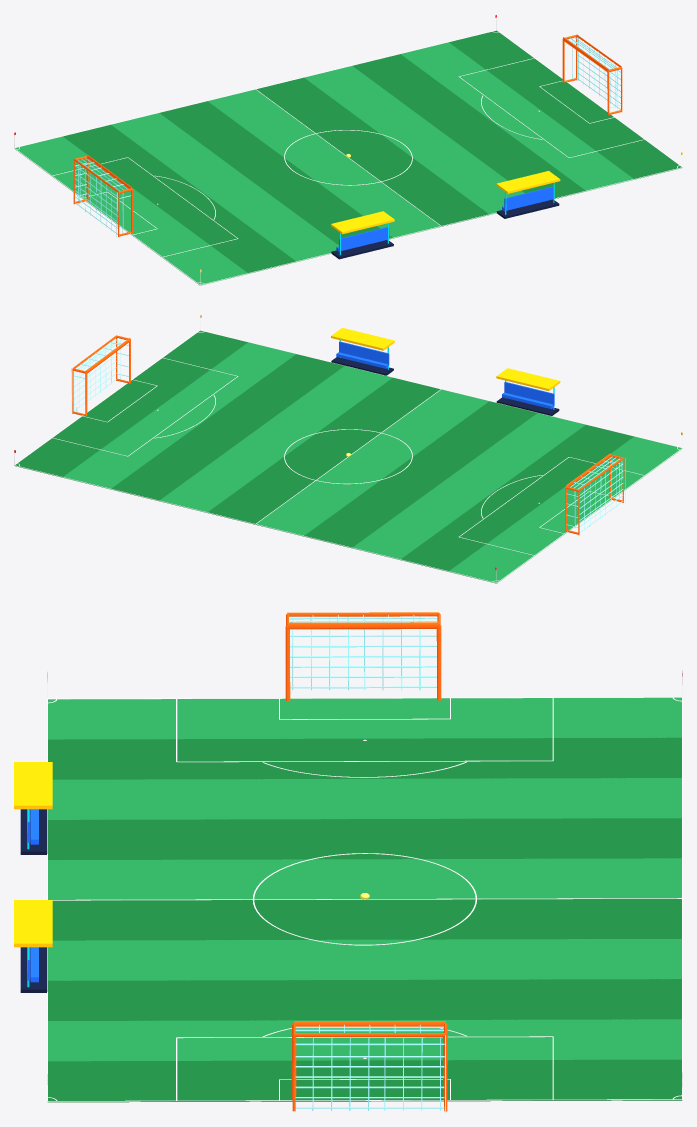
The model's file is CanchaFut_Act.glb.
3 views of the same model, one above another, from view 1: azimuth 30°, elevation 25°; view 2: azimuth 150°, elevation 25°; view 3: azimuth 270°, elevation 25° (orthographic). The views are drawn at different scales.
Visible parts, largest first — view 1: Franja_cesped_09, Franja_cesped_02, Franja_cesped_03, Franja_cesped_10, Franja_cesped_06, Franja_cesped_05, Franja_cesped_01, Franja_cesped_07, Franja_cesped_08, Franja_cesped_04, Banca_techo_18, Banca_techo_-18 (+6 smaller); view 2: Franja_cesped_03, Franja_cesped_07, Franja_cesped_09, Franja_cesped_08, Franja_cesped_04, Franja_cesped_02, Franja_cesped_05, Franja_cesped_10, Franja_cesped_06, Franja_cesped_01, Banca_techo_-18, Banca_techo_18 (+6 smaller); view 3: Franja_cesped_08, Franja_cesped_07, Franja_cesped_04, Franja_cesped_03, Franja_cesped_02, Franja_cesped_01, Franja_cesped_05, Franja_cesped_06, Franja_cesped_10, Franja_cesped_09, Banca_techo_-18, Banca_techo_18 (+8 smaller).
Part boxes in pixels (x1,y1,x2,y2): Franja_cesped_09: [401, 42, 634, 191]; Franja_cesped_02: [63, 124, 296, 273]; Franja_cesped_03: [111, 113, 338, 261]; Franja_cesped_10: [449, 30, 682, 179]; Franja_cesped_06: [256, 77, 489, 226]; Franja_cesped_05: [208, 89, 440, 238]; Franja_cesped_01: [15, 136, 247, 285]; Franja_cesped_07: [304, 66, 524, 214]; Franja_cesped_08: [352, 54, 585, 198]; Franja_cesped_04: [160, 101, 392, 244]; Banca_techo_18: [496, 171, 560, 193]; Banca_techo_-18: [331, 211, 394, 234]; Franja_cesped_03: [352, 413, 585, 559]; Franja_cesped_07: [159, 366, 392, 512]; Franja_cesped_09: [62, 342, 295, 489]; Franja_cesped_08: [111, 354, 344, 500]; Franja_cesped_04: [304, 401, 537, 548]; Franja_cesped_02: [400, 425, 633, 571]; Franja_cesped_05: [256, 389, 489, 536]; Franja_cesped_10: [14, 330, 247, 477]; Franja_cesped_06: [207, 377, 440, 524]; Franja_cesped_01: [449, 436, 681, 583]; Banca_techo_-18: [496, 368, 560, 390]; Banca_techo_18: [331, 327, 394, 350]; Franja_cesped_08: [48, 979, 681, 1020]; Franja_cesped_07: [48, 939, 681, 980]; Franja_cesped_04: [48, 818, 681, 859]; Franja_cesped_03: [48, 778, 681, 819]; Franja_cesped_02: [48, 737, 681, 779]; Franja_cesped_01: [48, 697, 681, 739]; Franja_cesped_05: [48, 858, 681, 899]; Franja_cesped_06: [52, 899, 681, 940]; Franja_cesped_10: [48, 1059, 682, 1102]; Franja_cesped_09: [48, 1019, 681, 1061]; Banca_techo_-18: [14, 762, 52, 809]; Banca_techo_18: [14, 900, 52, 947].
Size of the model in its own units: 9.07 by 0.794 by 6.05.
